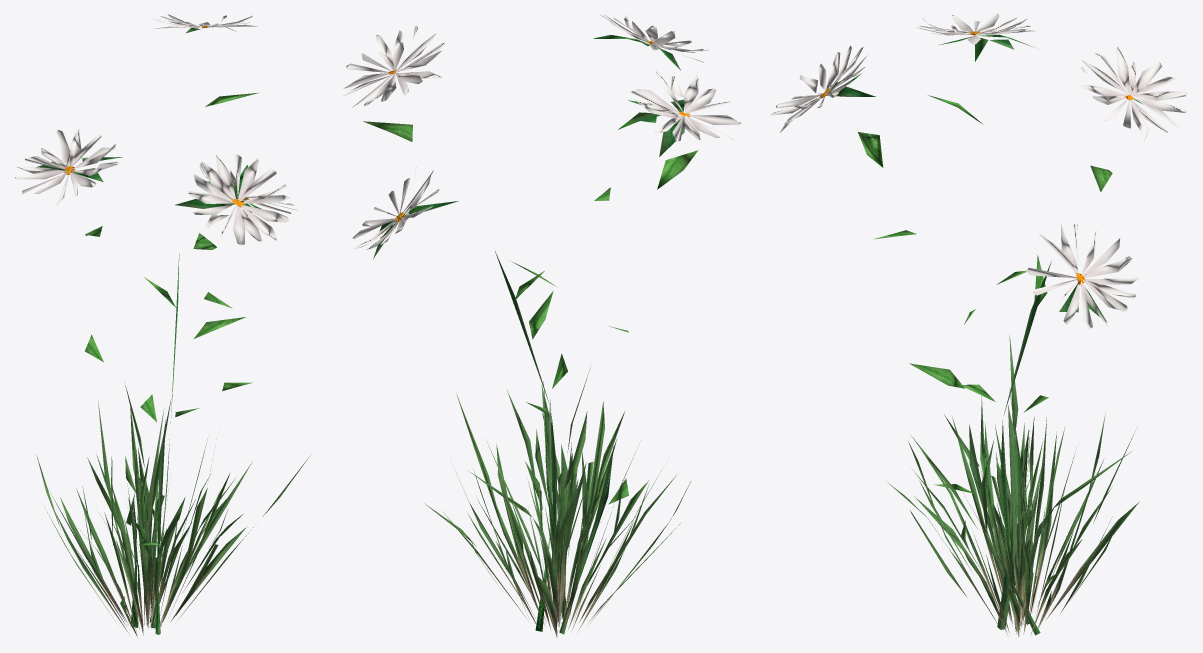
Rendered from flower.glb.
3 renders of one model, left to right at view 1: azimuth 30°, elevation 25°; view 2: azimuth 150°, elevation 25°; view 3: azimuth 270°, elevation 25°, orthographic. The views are drawn at different scales.
Bounding box in the file's own units: 0.344 × 0.6 × 0.3673.
Materials: 5 (5 with a texture image).
